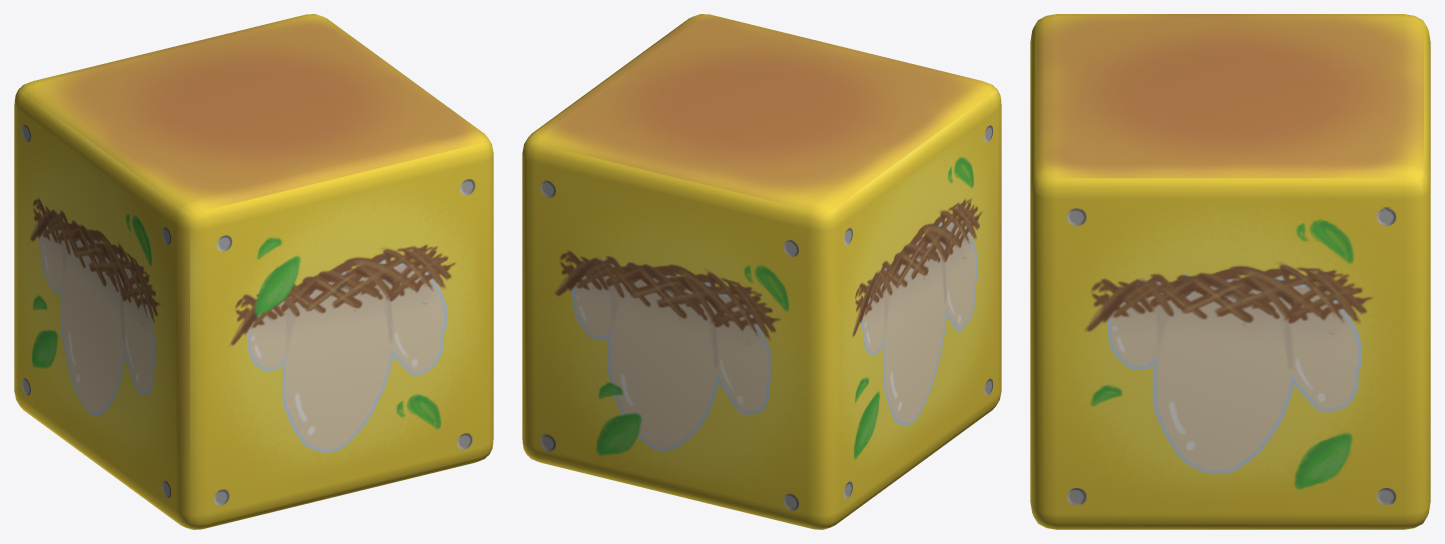
File: OilPushBlock.fbx
3 renders of one model, left to right at view 1: azimuth 30°, elevation 25°; view 2: azimuth 150°, elevation 25°; view 3: azimuth 270°, elevation 25°, orthographic. The views are drawn at different scales.
Parts seen in each view (by area): view 1: Box001; view 2: Box001; view 3: Box001.
Part boxes in pixels (<box>): Box001: <box>14,14,493,529</box>; Box001: <box>522,14,1001,529</box>; Box001: <box>1030,14,1430,529</box>.
Bounding box in the file's own units: 40 × 40 × 40.
